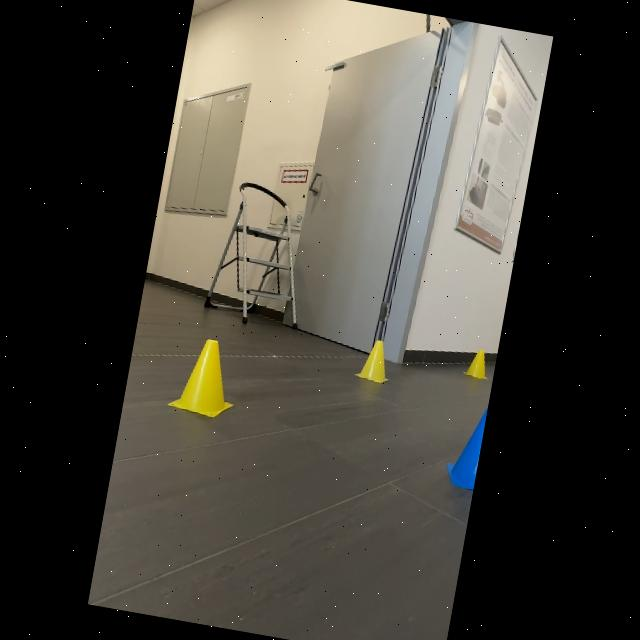yellow_cone: (158, 323, 251, 431), (351, 330, 398, 392)
